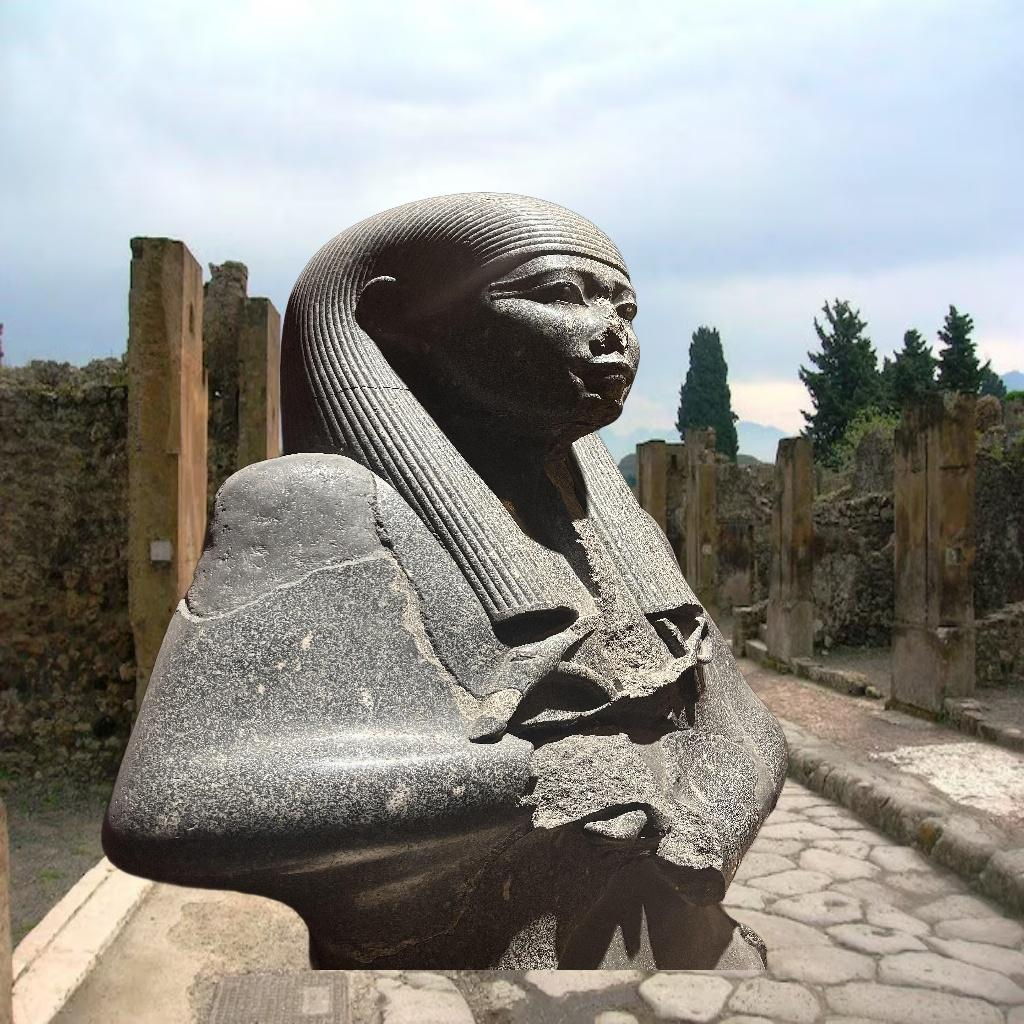Granite Statue of Osiris: (96, 190, 794, 970)
